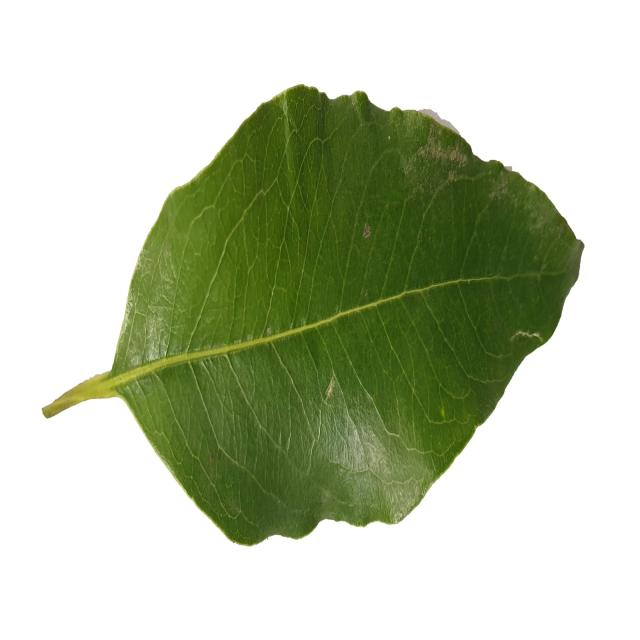Medicinal-Sandalwood: (42, 86, 585, 552)
